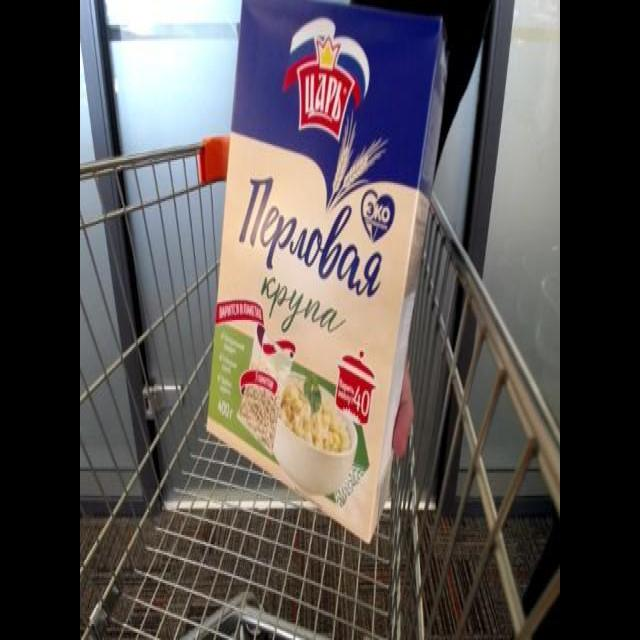Groats: (203, 2, 451, 551)
